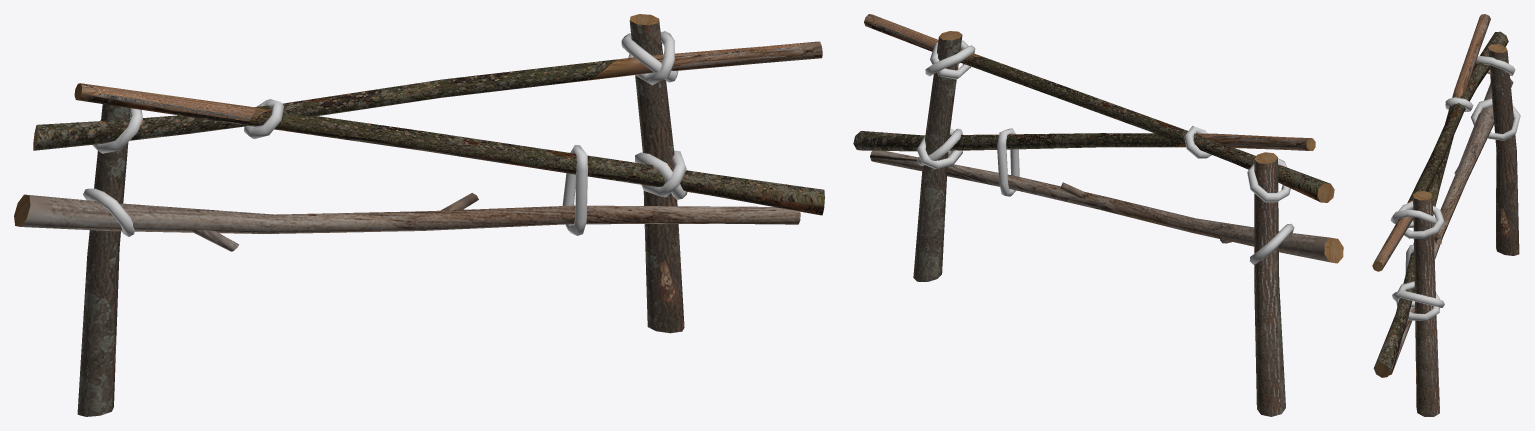
Rendered from village_wood_fence_04.fbx.
3 views of the same model, side by side, from view 1: azimuth 30°, elevation 25°; view 2: azimuth 150°, elevation 25°; view 3: azimuth 270°, elevation 25° (orthographic). The views are drawn at different scales.
Parts seen in each view (by area): view 1: village_wood_fence_04; view 2: village_wood_fence_04; view 3: village_wood_fence_04.
Boxes of the visible parts, bbox=[...] form: village_wood_fence_04: bbox=[14, 14, 824, 416]; village_wood_fence_04: bbox=[853, 14, 1343, 416]; village_wood_fence_04: bbox=[1372, 14, 1520, 416].
Size of the model in its own units: 258 by 120 by 70.73.
